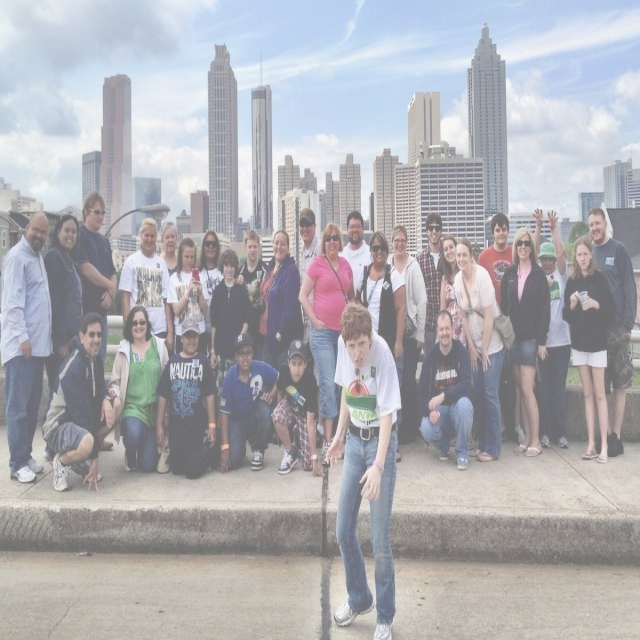pessoa: (322, 300, 407, 640), (586, 206, 640, 593), (296, 219, 359, 468), (0, 209, 56, 488), (452, 236, 517, 464), (38, 310, 116, 494), (68, 185, 120, 453), (353, 228, 409, 466), (498, 224, 554, 461), (560, 234, 616, 466), (42, 213, 87, 467), (154, 313, 222, 481), (529, 204, 574, 452), (106, 304, 170, 474), (216, 330, 281, 478), (416, 308, 474, 472), (386, 223, 428, 446), (268, 338, 329, 480), (118, 216, 174, 352), (208, 248, 254, 411), (256, 228, 306, 374), (298, 205, 326, 450), (196, 229, 246, 363), (166, 236, 210, 353), (415, 212, 445, 360), (476, 210, 518, 308), (436, 232, 467, 350), (338, 210, 376, 299), (237, 228, 268, 302), (156, 220, 178, 279)
